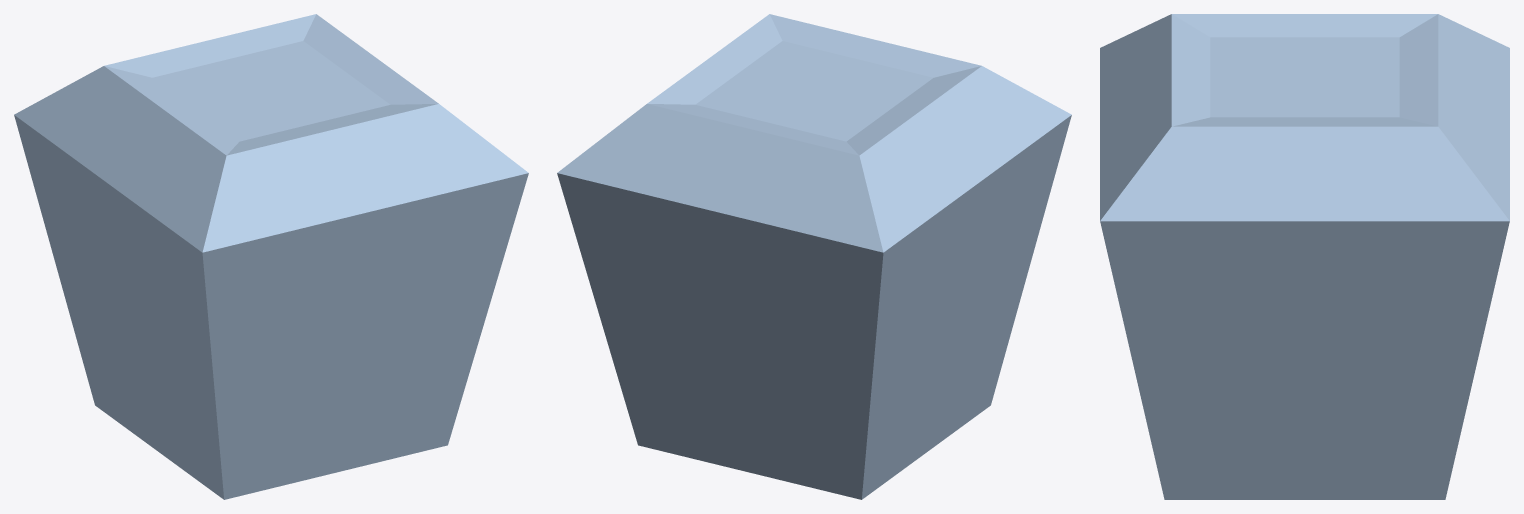
The model's file is pillar_top.fbx.
3 renders of one model, left to right at view 1: azimuth 30°, elevation 25°; view 2: azimuth 150°, elevation 25°; view 3: azimuth 270°, elevation 25°, orthographic. The views are drawn at different scales.
Parts seen in each view (by area): view 1: Pillar.001; view 2: Pillar.001; view 3: Pillar.001.
Boxes of the visible parts, x1=… form: Pillar.001: x1=14, y1=14, x2=528, y2=499; Pillar.001: x1=557, y1=14, x2=1071, y2=499; Pillar.001: x1=1100, y1=14, x2=1509, y2=499.
Size of the model in its own units: 185 by 184 by 185.
